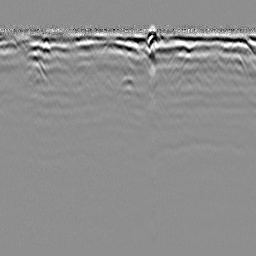cavity: (116, 75, 140, 95)
